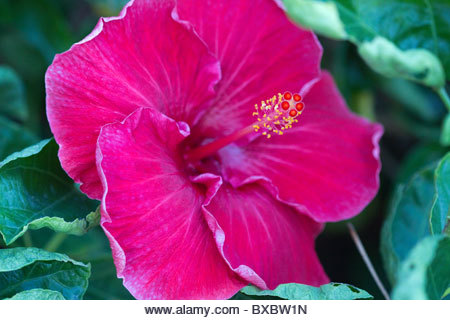Hibiscus: (47, 9, 393, 298)
